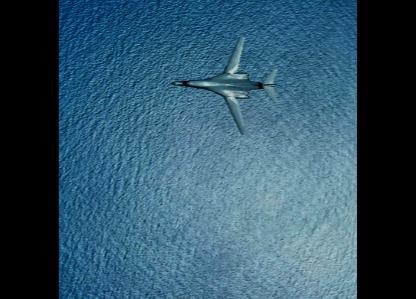AV8B: (172, 36, 280, 135)
